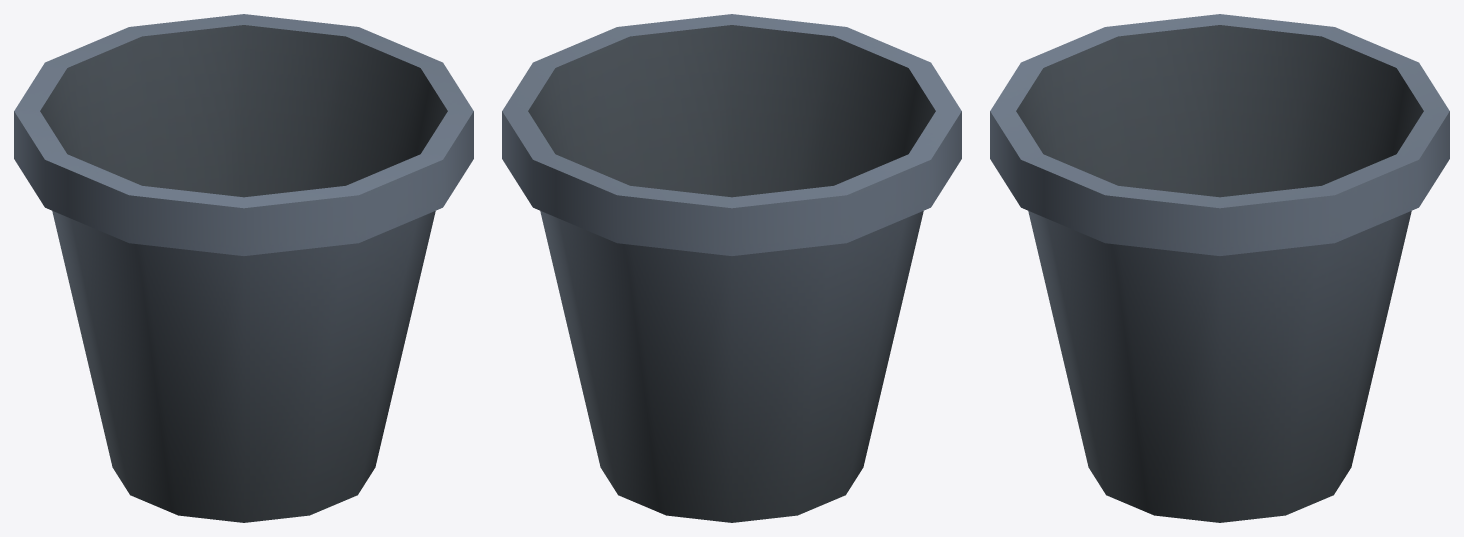
File: L1_Rubbish Bin.fbx
3 views of the same model, side by side, from view 1: azimuth 30°, elevation 25°; view 2: azimuth 150°, elevation 25°; view 3: azimuth 270°, elevation 25° (orthographic).
Visible parts, largest first — view 1: Cylinder007; view 2: Cylinder007; view 3: Cylinder007.
Boxes of the visible parts, x1,y1,x2,y2 form: Cylinder007: [14, 14, 473, 522]; Cylinder007: [502, 14, 961, 522]; Cylinder007: [990, 14, 1449, 522].
Bounding box in the file's own units: 28.88 × 24.7 × 28.88.
1 material, 1 textured.
